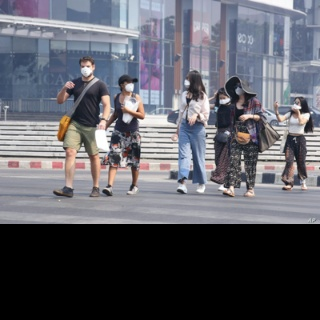with_mask: (80, 64, 93, 77), (124, 80, 135, 92), (235, 83, 245, 96), (293, 100, 301, 111), (184, 76, 191, 88), (219, 96, 229, 104)
